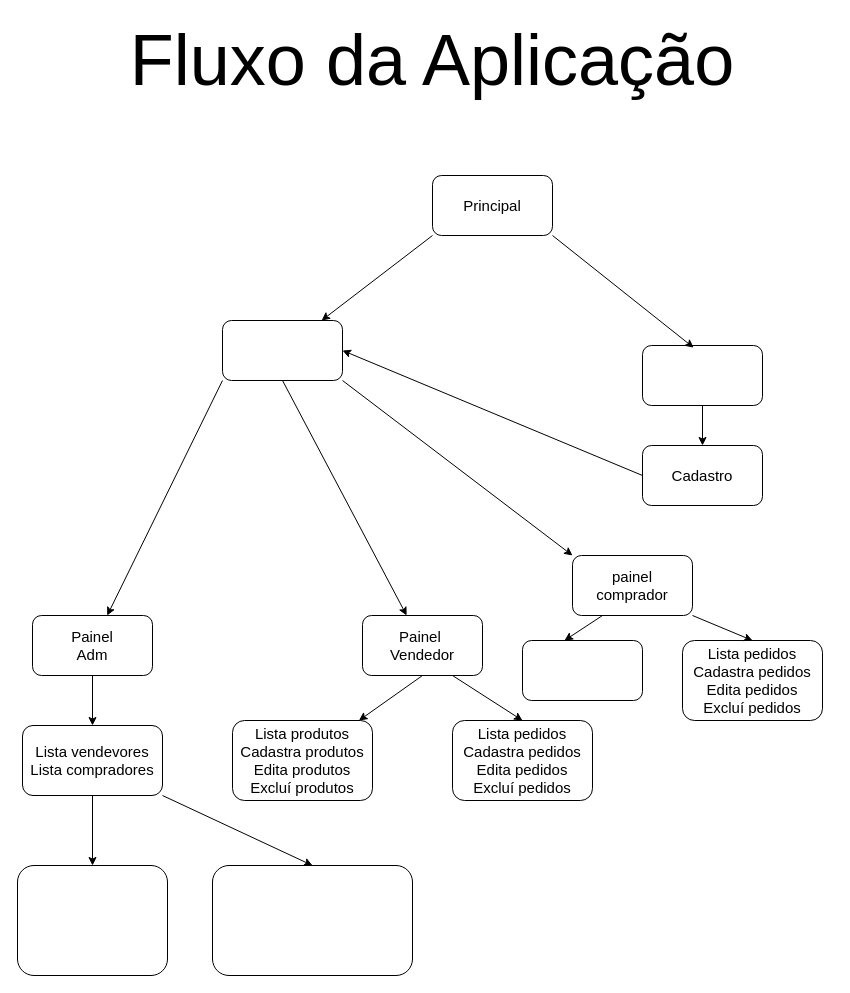
The diagram is 850 pixels wide and 993 high, and some of its shapes have lost their labels. Each missing label, with the centre of its shape:
Cadastra comprador Lista comprador Edita comprador Apaga comprador: [312,920]
Cadastra vendedor Lista vendedor Edita vendedor Apaga vendedor: [92,920]
Criar Conta: [702,375]
Fazer Login: [282,350]
Lista produtos: [582,670]
